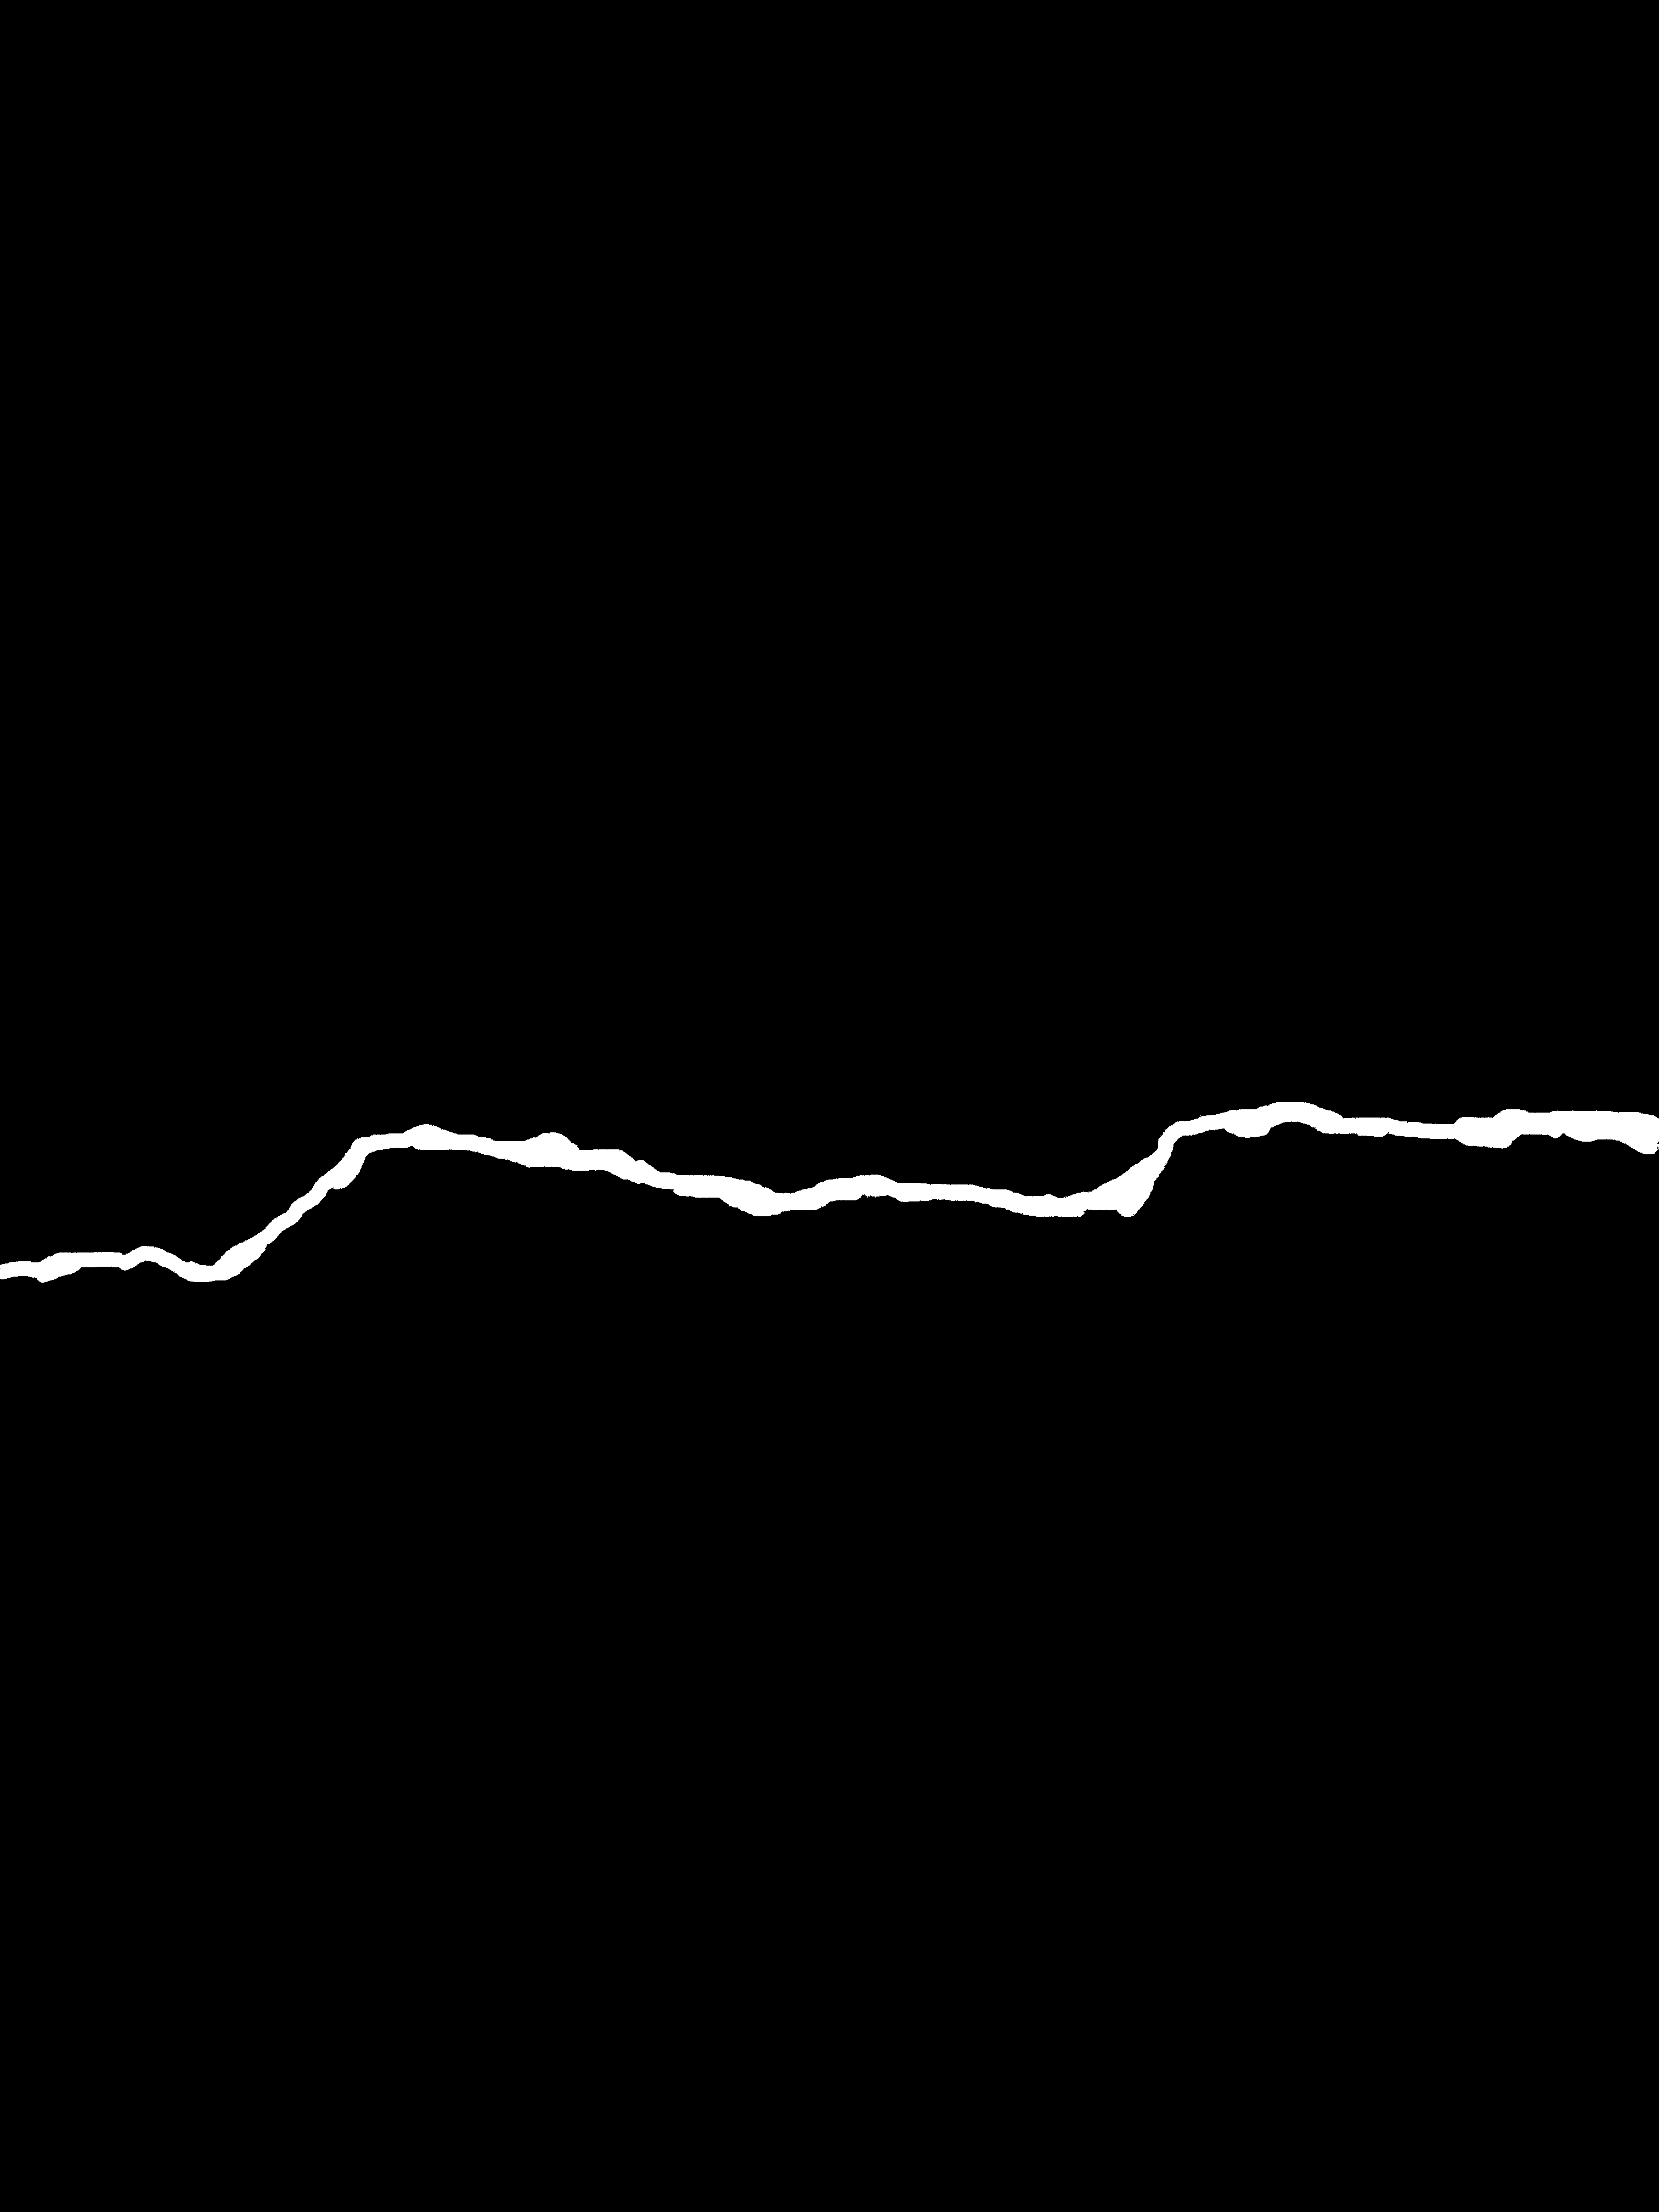Crack: (0, 1069, 1659, 1315)
